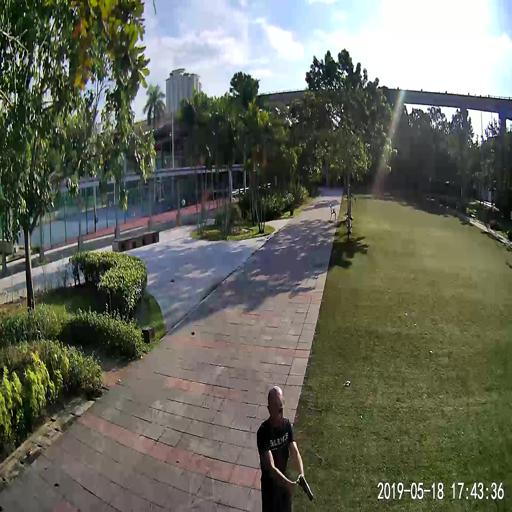pistol: (297, 472, 315, 505)
